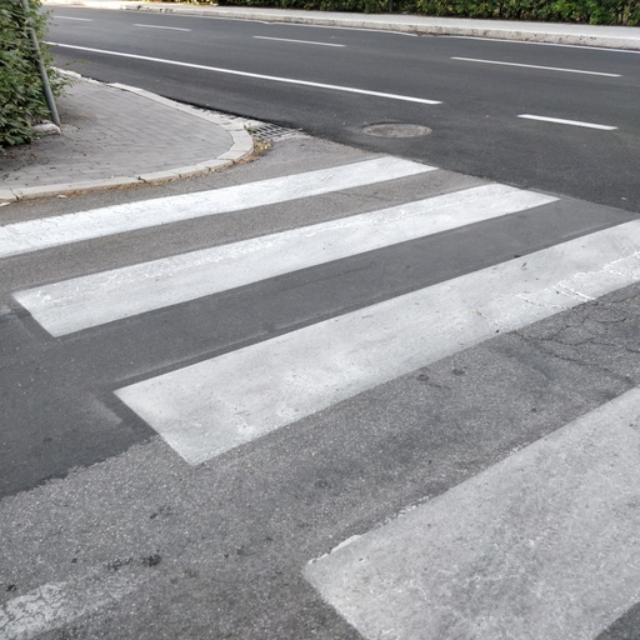sidewalk: (1, 155, 640, 639)
